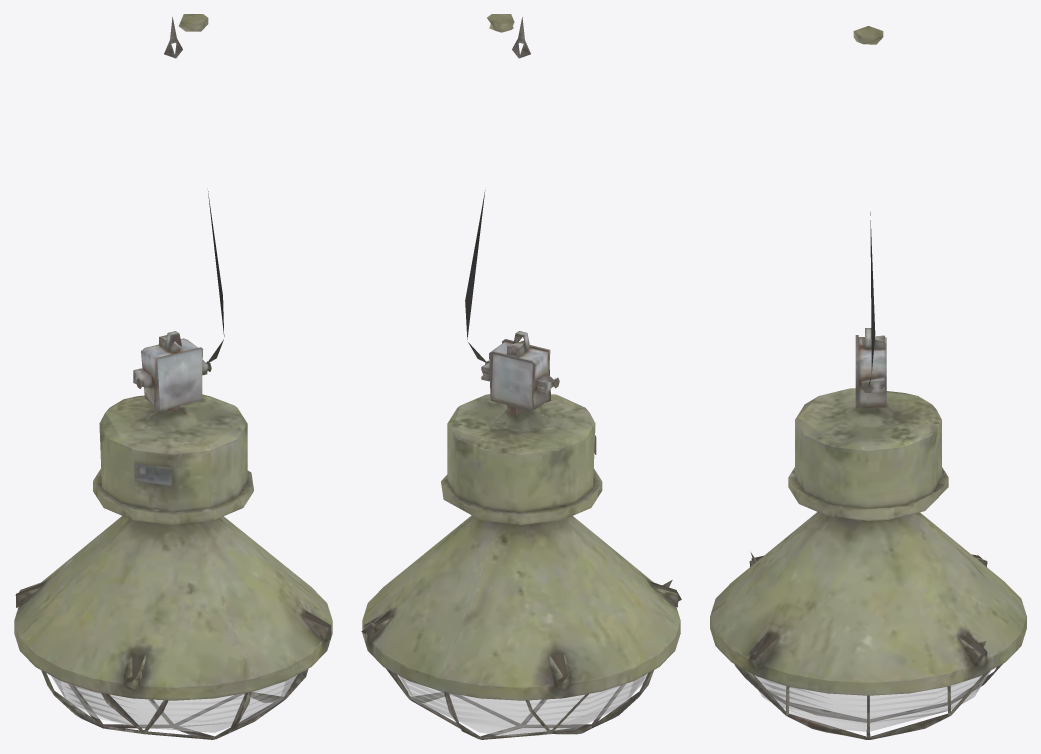
Rendered from lampHanging.glb.
3 renders of one model, left to right at view 1: azimuth 30°, elevation 25°; view 2: azimuth 150°, elevation 25°; view 3: azimuth 270°, elevation 25°, orthographic.
Visible parts, largest first — view 1: hanging_industrial_lamp; view 2: hanging_industrial_lamp; view 3: hanging_industrial_lamp.
Part boxes in pixels (x1=…): hanging_industrial_lamp: x1=14, y1=14, x2=332, y2=739; hanging_industrial_lamp: x1=361, y1=14, x2=681, y2=739; hanging_industrial_lamp: x1=710, y1=26, x2=1026, y2=739.
Size of the model in its own units: 0.5497 by 1.36 by 0.5497.
Materials: 2 (1 with a texture image).
